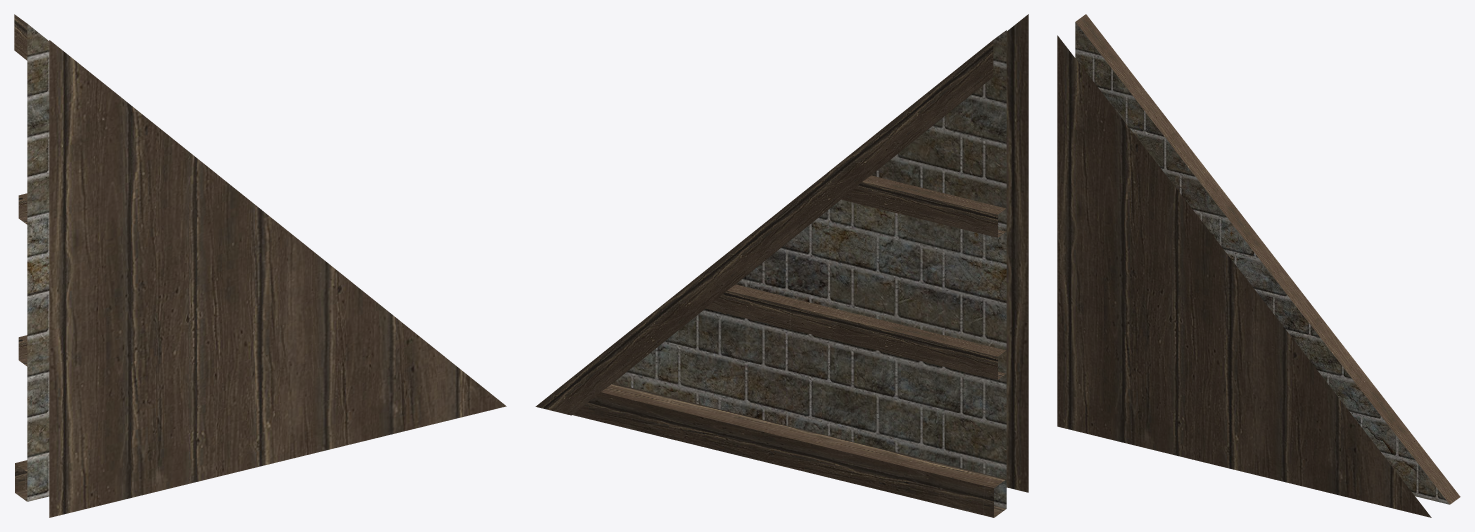
Rendered from ARC1010219.fbx.
3 views of the same model, side by side, from view 1: azimuth 30°, elevation 25°; view 2: azimuth 150°, elevation 25°; view 3: azimuth 330°, elevation 25° (orthographic). The views are drawn at different scales.
Visible parts, largest first — view 1: smARC1010219; view 2: smARC1010219; view 3: smARC1010219.
Boxes of the visible parts, left/top/right/bottom form: smARC1010219: left=14, top=14, right=506, bottom=517; smARC1010219: left=535, top=14, right=1028, bottom=517; smARC1010219: left=1057, top=14, right=1460, bottom=517.
Bounding box in the file's own units: 268 × 268 × 35.62.
1 material, 1 textured.
